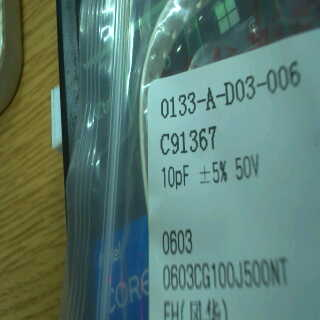10pF: (156, 159, 202, 197)
